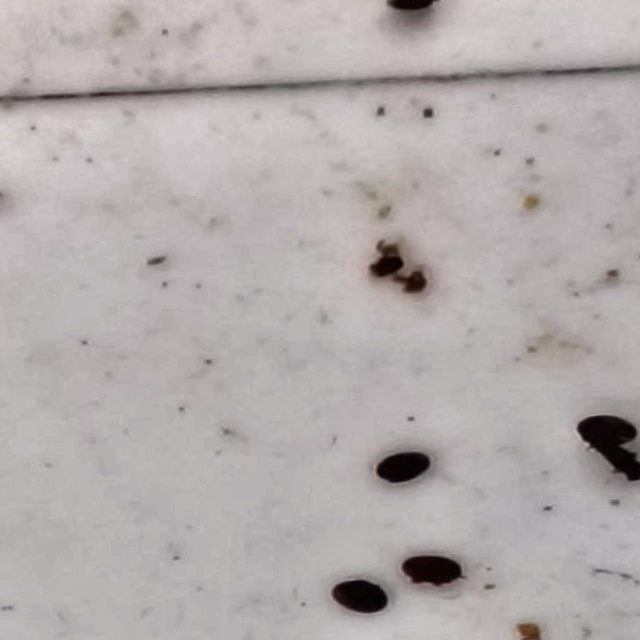varroa: (324, 578, 389, 619), (398, 553, 469, 589), (573, 410, 636, 450), (372, 448, 433, 488)
